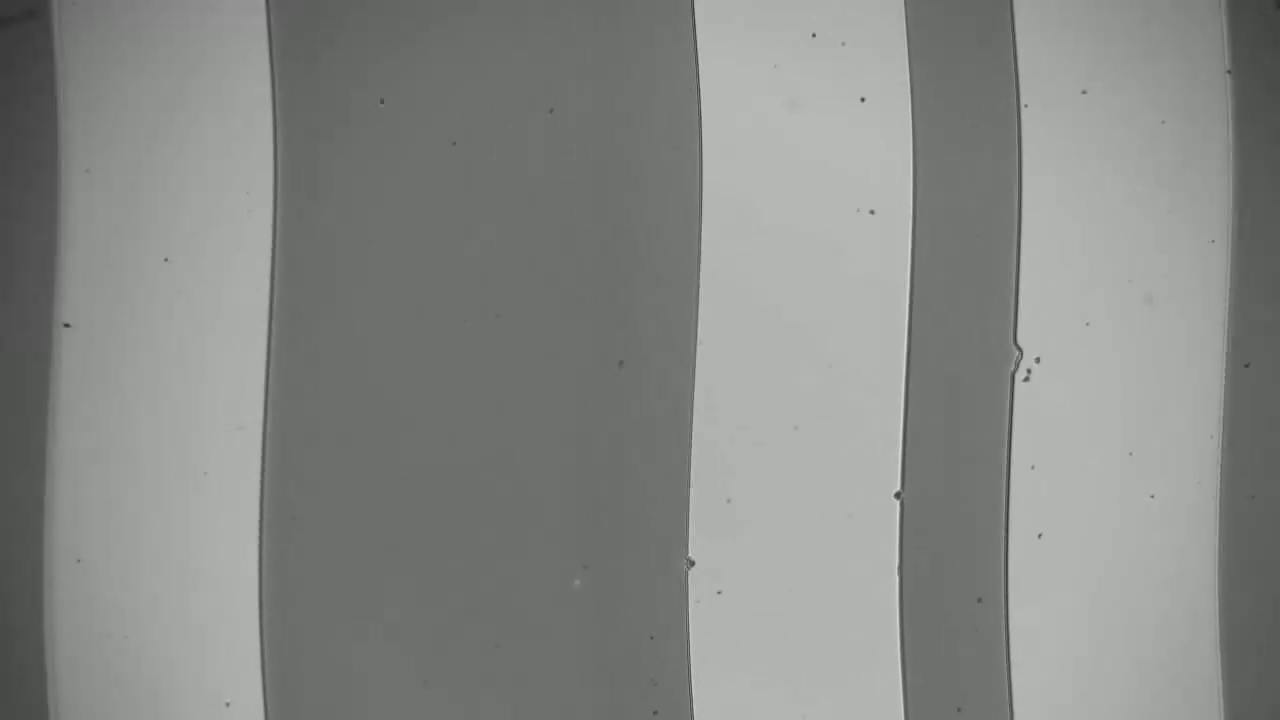edge_bite: (1000, 329, 1034, 380)
